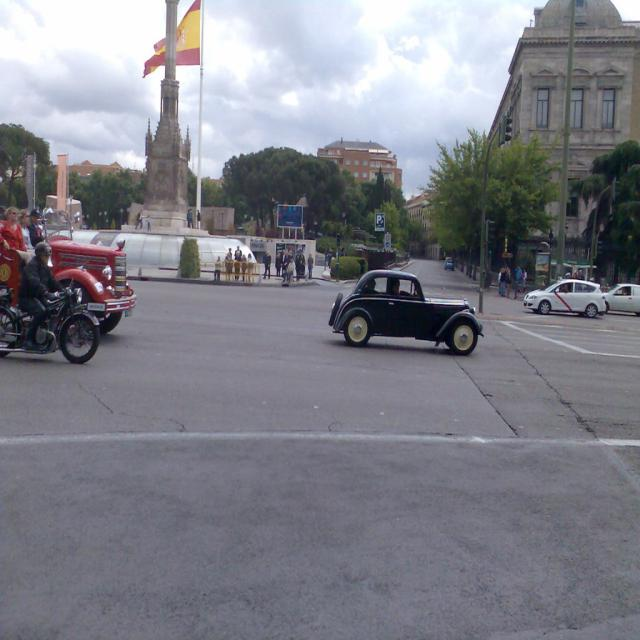car: (329, 254, 484, 349), (522, 276, 604, 317), (445, 256, 455, 267)
